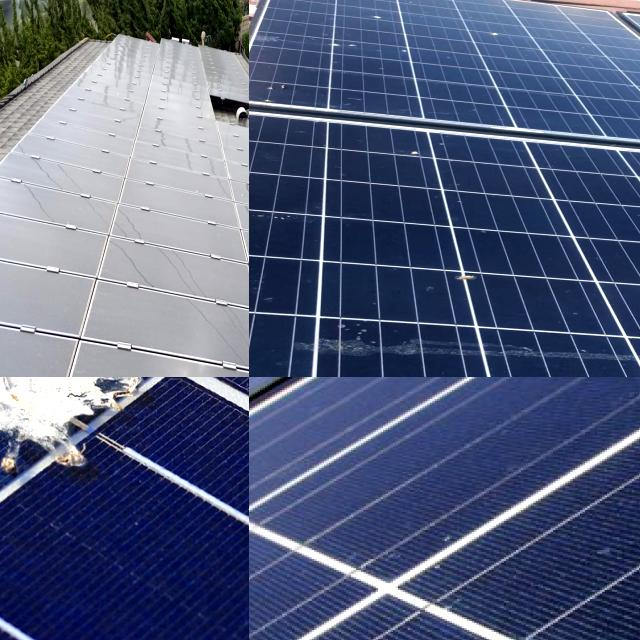bird: (0, 377, 155, 484)
crack: (249, 377, 640, 640)
dust: (164, 346, 249, 377), (0, 314, 17, 377)
